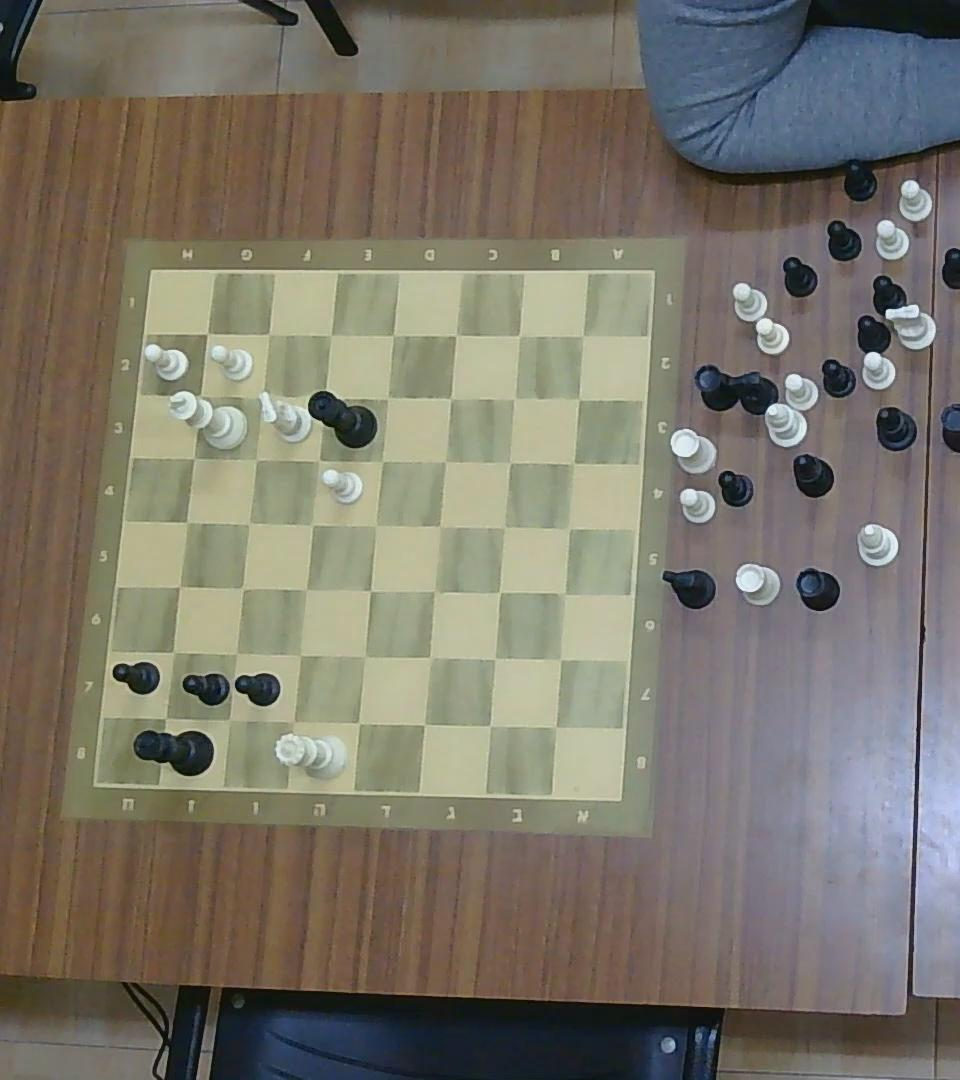xcorner: (542, 714, 569, 740), (477, 712, 503, 738), (246, 383, 272, 409), (412, 711, 437, 736), (418, 645, 442, 670), (482, 647, 506, 671), (347, 710, 371, 734), (281, 710, 305, 733), (353, 644, 376, 668), (154, 706, 178, 728), (288, 643, 311, 665), (549, 648, 571, 670), (319, 324, 341, 346), (218, 709, 240, 731), (439, 388, 461, 408), (372, 449, 392, 471), (188, 386, 210, 406), (366, 514, 386, 535), (423, 581, 443, 602), (499, 450, 519, 471), (555, 583, 575, 604), (429, 516, 449, 536), (183, 447, 203, 467), (225, 644, 245, 664), (445, 325, 465, 345), (559, 518, 579, 538), (259, 324, 279, 344), (383, 325, 403, 345), (247, 448, 266, 469), (296, 578, 315, 599), (435, 450, 454, 471), (302, 514, 321, 534), (378, 388, 397, 408), (361, 580, 380, 600), (489, 582, 508, 602), (309, 450, 328, 470), (170, 577, 189, 597), (177, 511, 196, 531), (315, 386, 334, 406), (240, 513, 259, 532), (198, 324, 217, 343), (234, 579, 253, 598), (495, 518, 513, 537), (165, 643, 183, 662), (564, 453, 583, 471), (573, 326, 591, 345), (505, 389, 523, 406), (511, 327, 528, 344), (572, 390, 588, 406)
